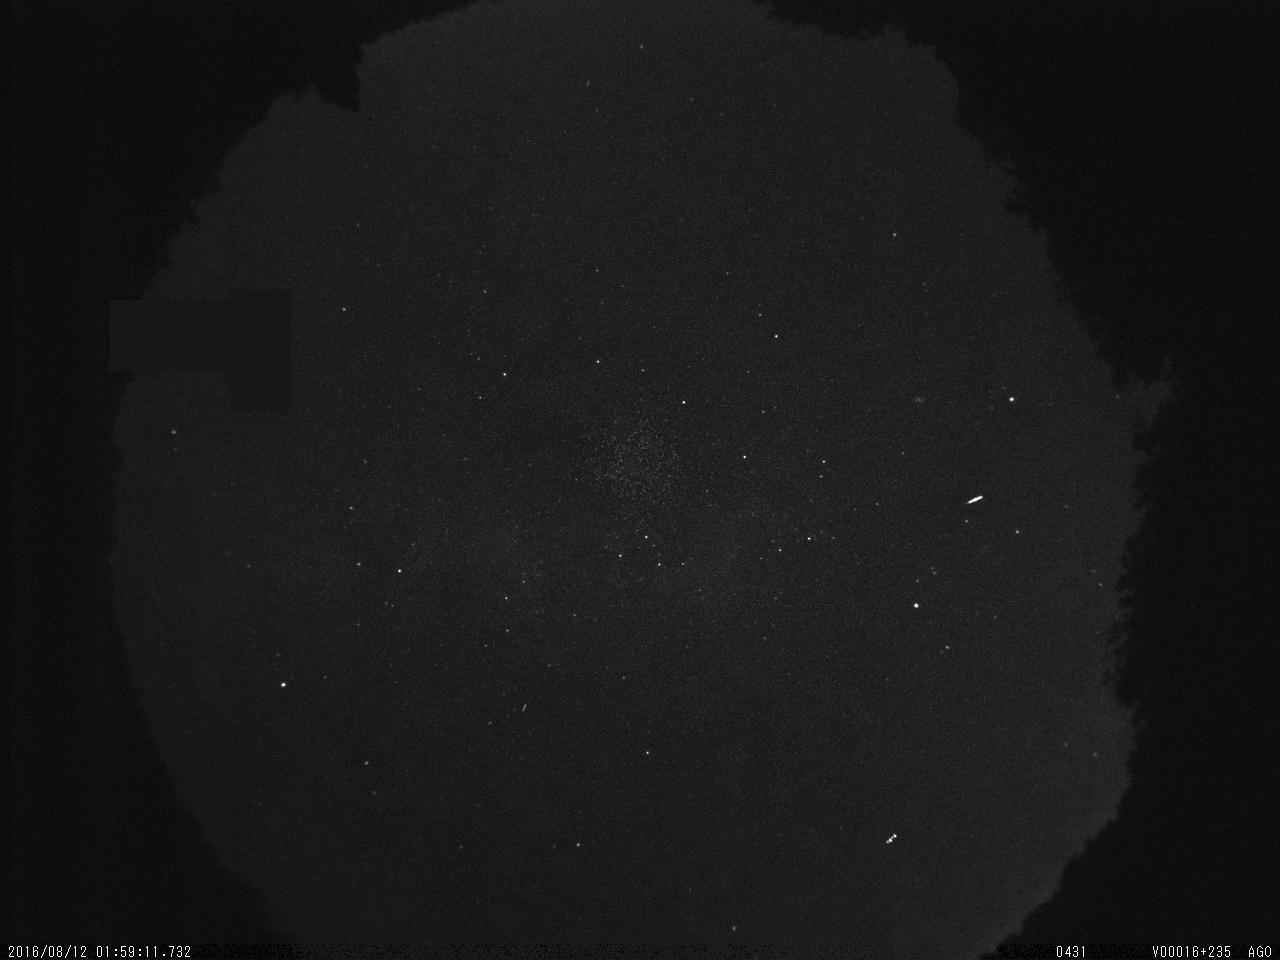meteor: (962, 485, 991, 515)
